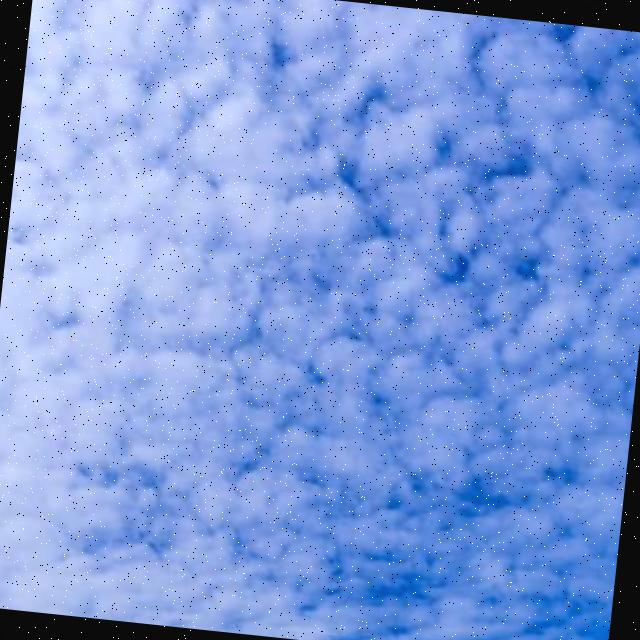Cc: (1, 1, 640, 563)
